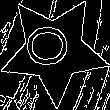O_E: (29, 27, 79, 73)
